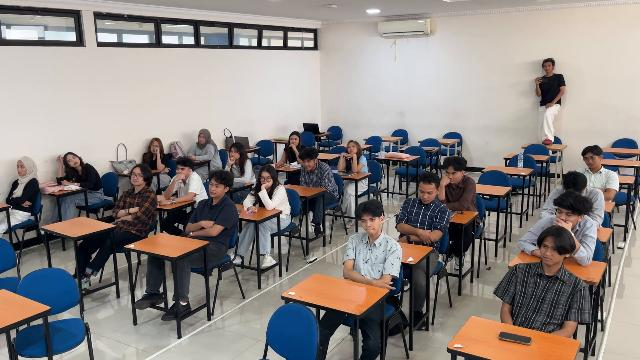bingung: (541, 241, 560, 265), (361, 217, 379, 235), (418, 186, 434, 204), (555, 207, 574, 222), (583, 154, 598, 168), (209, 182, 222, 197), (131, 171, 144, 185), (446, 169, 458, 183), (16, 161, 26, 176), (67, 156, 80, 167), (176, 164, 187, 174), (260, 174, 271, 184), (302, 159, 312, 170), (151, 141, 160, 153), (230, 148, 240, 158), (348, 143, 357, 154), (290, 136, 299, 145), (199, 134, 205, 144)
